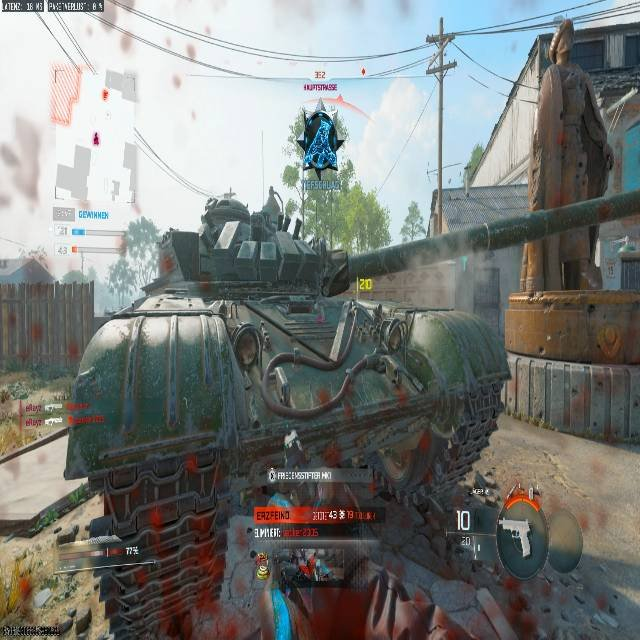player: (36, 186, 516, 640), (295, 106, 347, 173), (538, 345, 545, 355)
